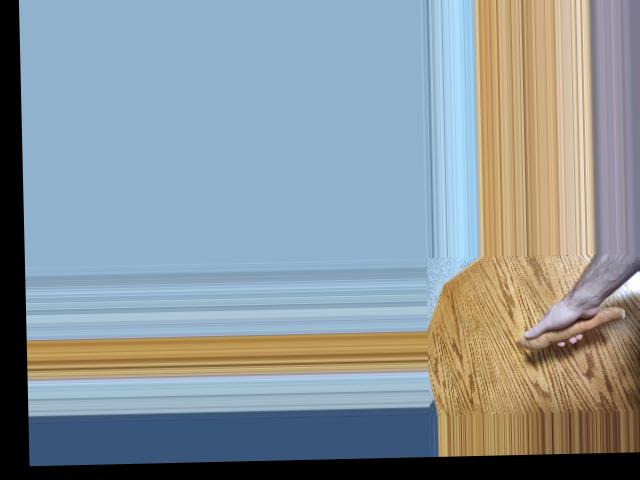sweet_potato: (519, 302, 627, 354)
